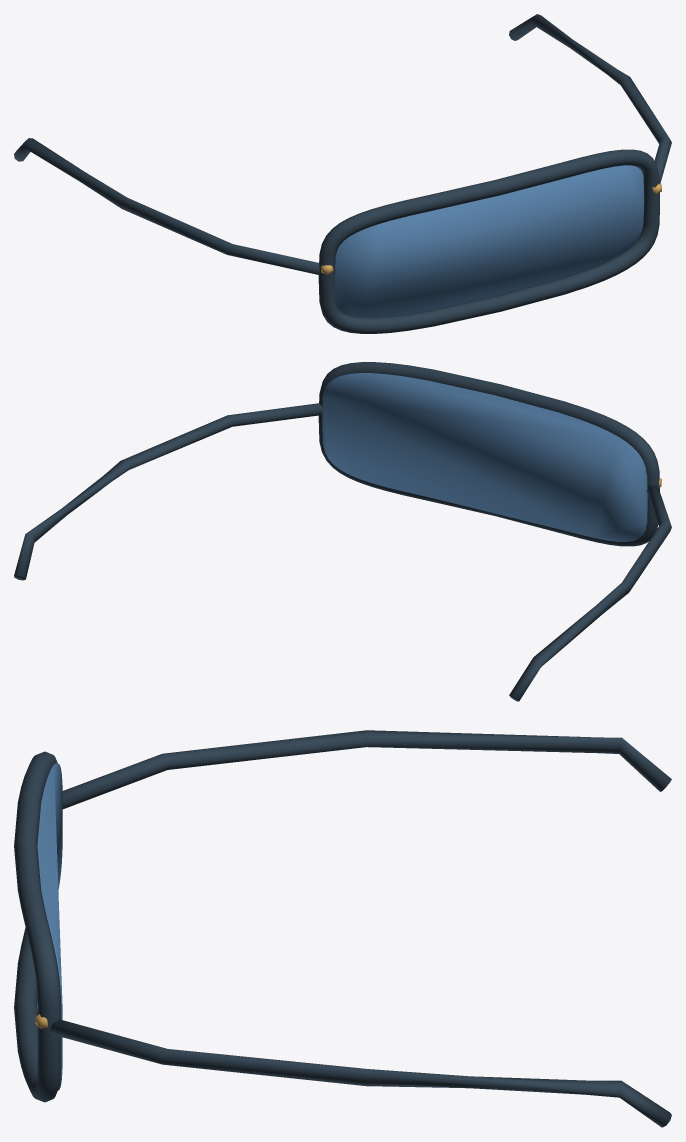
File: 11-glacier-wrap.glb
3 views of the same model, one above another, from view 1: azimuth 30°, elevation 25°; view 2: azimuth 150°, elevation 25°; view 3: azimuth 270°, elevation 25° (orthographic). The views are drawn at different scales.
Parts seen in each view (by area): view 1: Glasses11_WrapLens2, Glasses11_VisorRim1, Glasses11_Temple-13, Glasses11_Temple15; view 2: Glasses11_WrapLens2, Glasses11_VisorRim1, Glasses11_Temple15, Glasses11_Temple-13; view 3: Glasses11_VisorRim1, Glasses11_Temple-13, Glasses11_Temple15, Glasses11_WrapLens2.
Boxes of the visible parts, x1=… form: Glasses11_WrapLens2: x1=335, y1=165, x2=644, y2=318; Glasses11_VisorRim1: x1=318, y1=149, x2=659, y2=333; Glasses11_Temple-13: x1=14, y1=138, x2=319, y2=274; Glasses11_Temple15: x1=509, y1=14, x2=671, y2=182; Glasses11_WrapLens2: x1=322, y1=373, x2=647, y2=541; Glasses11_VisorRim1: x1=318, y1=362, x2=659, y2=546; Glasses11_Temple15: x1=14, y1=403, x2=322, y2=580; Glasses11_Temple-13: x1=509, y1=485, x2=671, y2=701; Glasses11_VisorRim1: x1=14, y1=751, x2=61, y2=1102; Glasses11_Temple-13: x1=62, y1=730, x2=671, y2=809; Glasses11_Temple15: x1=50, y1=1019, x2=671, y2=1127; Glasses11_WrapLens2: x1=37, y1=763, x2=62, y2=1090.
Size of the model in its own units: 0.6374 by 0.155 by 0.5055.
